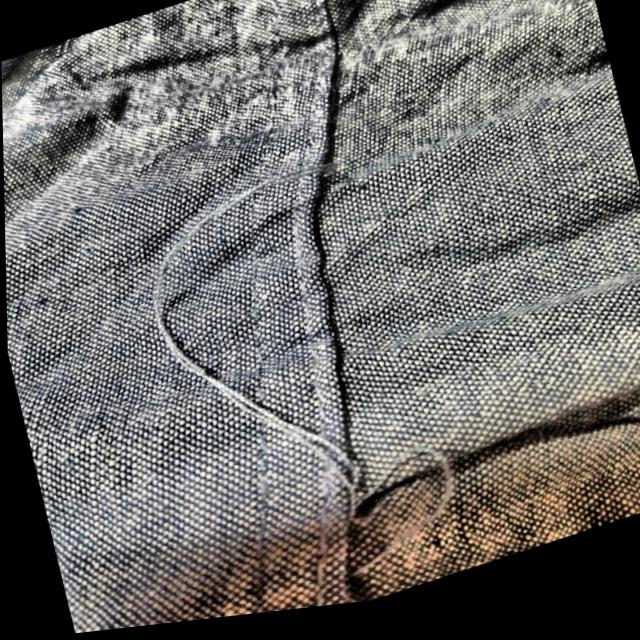Stitch: (89, 82, 537, 632)
